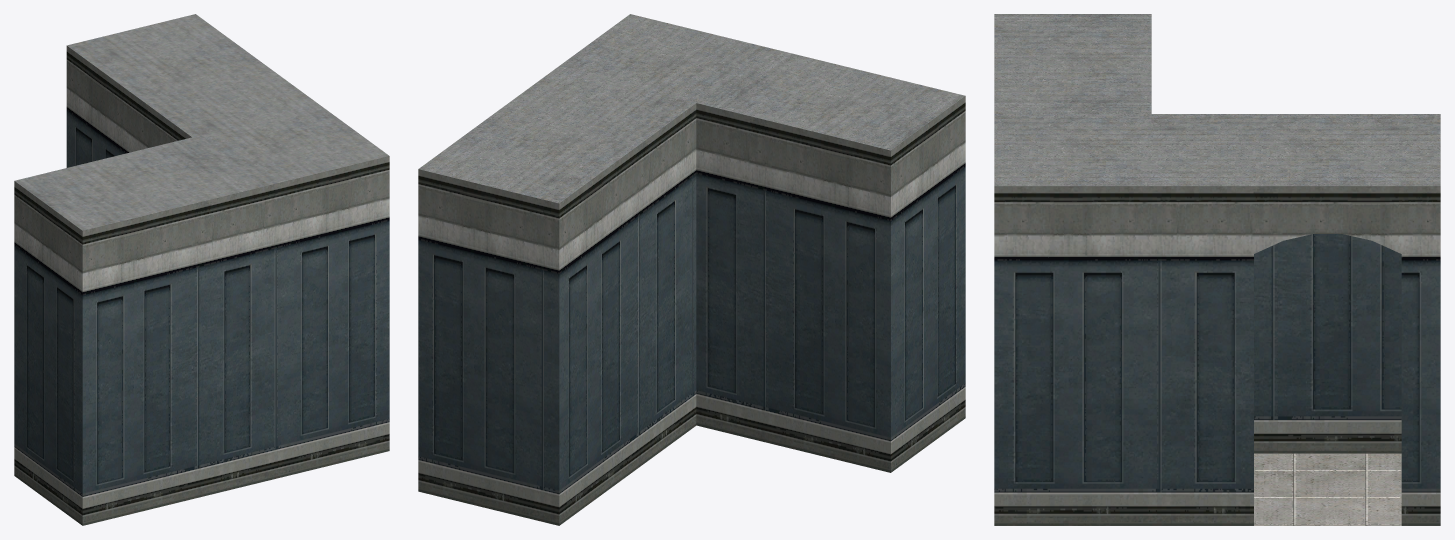
Rendered from thm_corl_imprv_historic_32x16_s02_r3_mesh.fbx.
3 renders of one model, left to right at view 1: azimuth 30°, elevation 25°; view 2: azimuth 150°, elevation 25°; view 3: azimuth 270°, elevation 25°, orthographic. The views are drawn at different scales.
Visible parts, largest first — view 1: mesh_node; view 2: mesh_node; view 3: mesh_node.
Part boxes in pixels (x1,y1,x2,y2): mesh_node: (14,14,389,525); mesh_node: (418,14,965,525); mesh_node: (994,14,1440,525).
Size of the model in its own units: 4.14 by 3.8 by 4.53.
